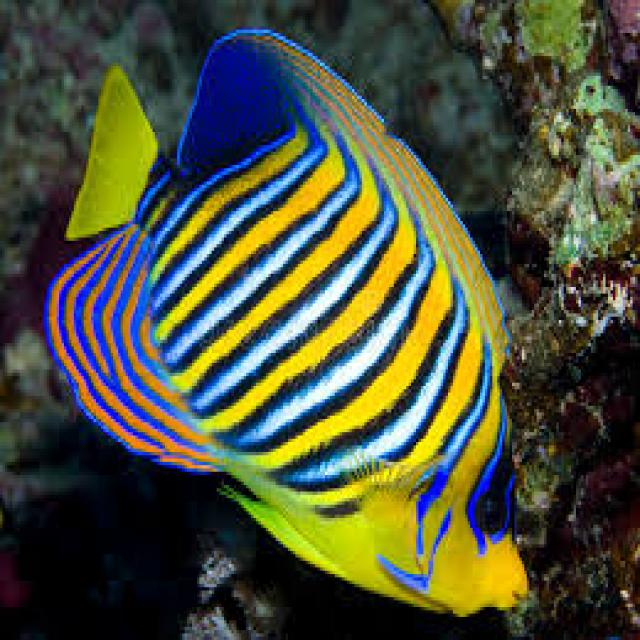AngelFish: (45, 29, 529, 612)
